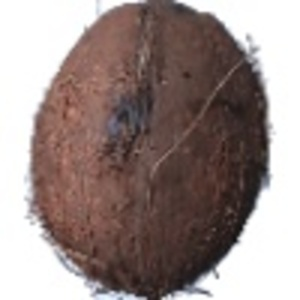coco: (25, 1, 272, 300)
